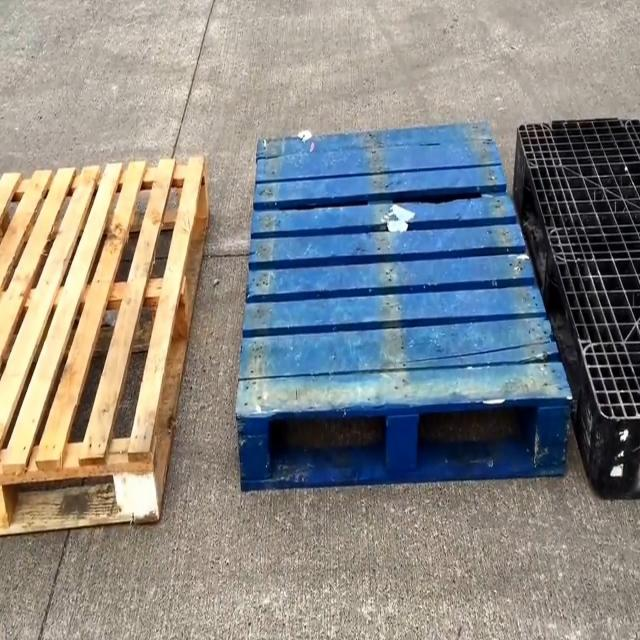Palette: (231, 123, 577, 504), (0, 152, 212, 539), (511, 111, 640, 511)
